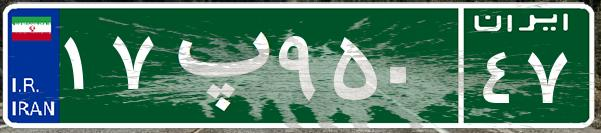0: (385, 28, 445, 110)
1: (57, 26, 110, 107)
4: (475, 38, 525, 113)
5: (330, 28, 385, 110)
7: (110, 28, 158, 105), (525, 38, 570, 115)
9: (273, 28, 330, 110)
پ: (158, 15, 273, 115)
